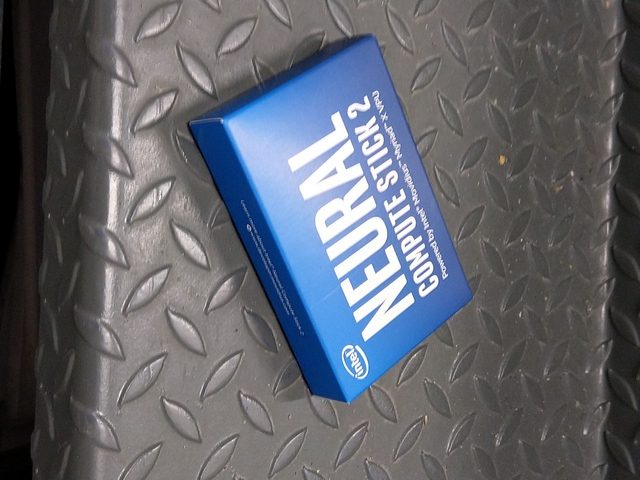box: (187, 30, 476, 406)
